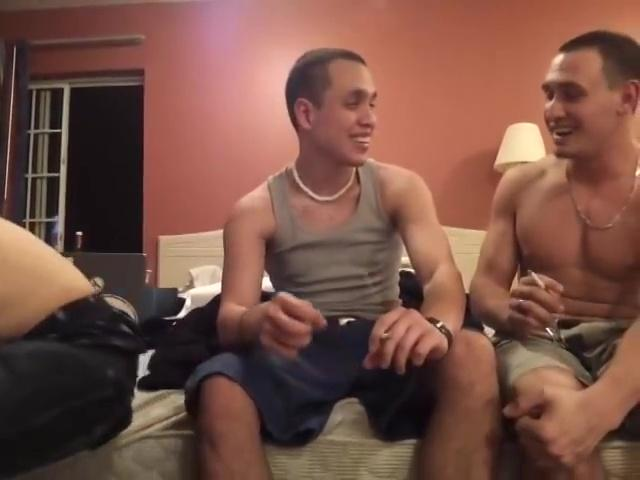cigarette: (526, 269, 548, 288)
